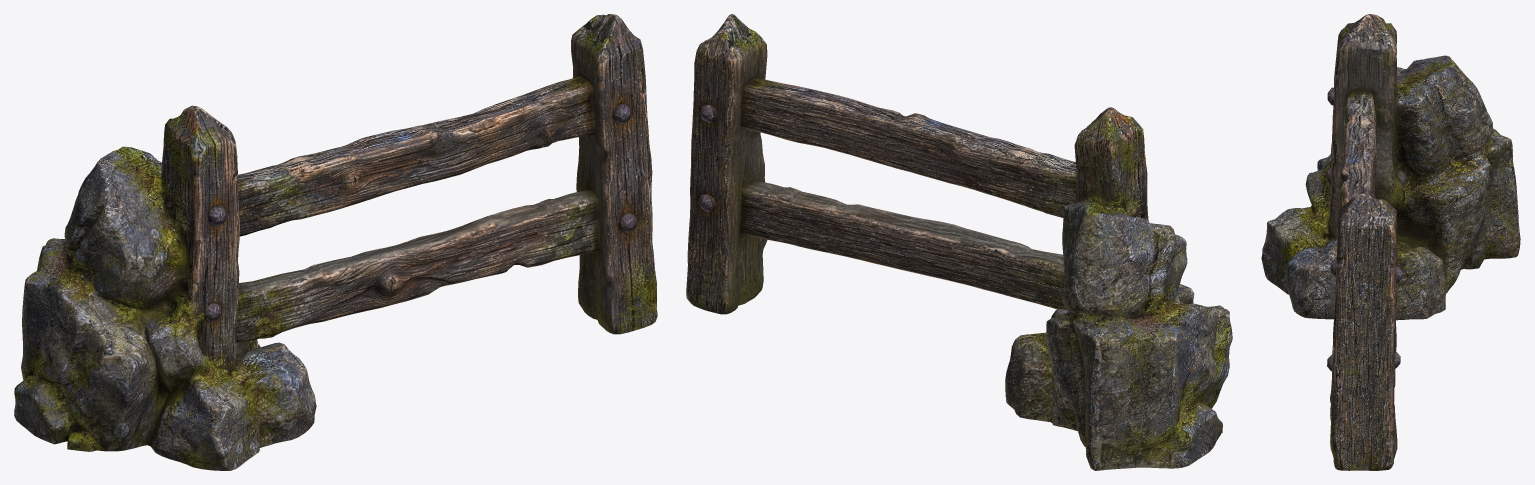
File: prop_fence_rock.glb
3 renders of one model, left to right at view 1: azimuth 30°, elevation 25°; view 2: azimuth 150°, elevation 25°; view 3: azimuth 270°, elevation 25°, orthographic. The views are drawn at different scales.
Visible parts, largest first — view 1: tripo_node_7915f3a1-9033-4ffb-a927-4f5141262888; view 2: tripo_node_7915f3a1-9033-4ffb-a927-4f5141262888; view 3: tripo_node_7915f3a1-9033-4ffb-a927-4f5141262888.
Boxes of the visible parts, left/top/right/bottom form: tripo_node_7915f3a1-9033-4ffb-a927-4f5141262888: left=14, top=14, right=657, bottom=470; tripo_node_7915f3a1-9033-4ffb-a927-4f5141262888: left=686, top=14, right=1232, bottom=470; tripo_node_7915f3a1-9033-4ffb-a927-4f5141262888: left=1261, top=14, right=1520, bottom=470.
Bounding box in the file's own units: 0.9995 × 0.521 × 0.4438.
Materials: 1 (1 with a texture image).
